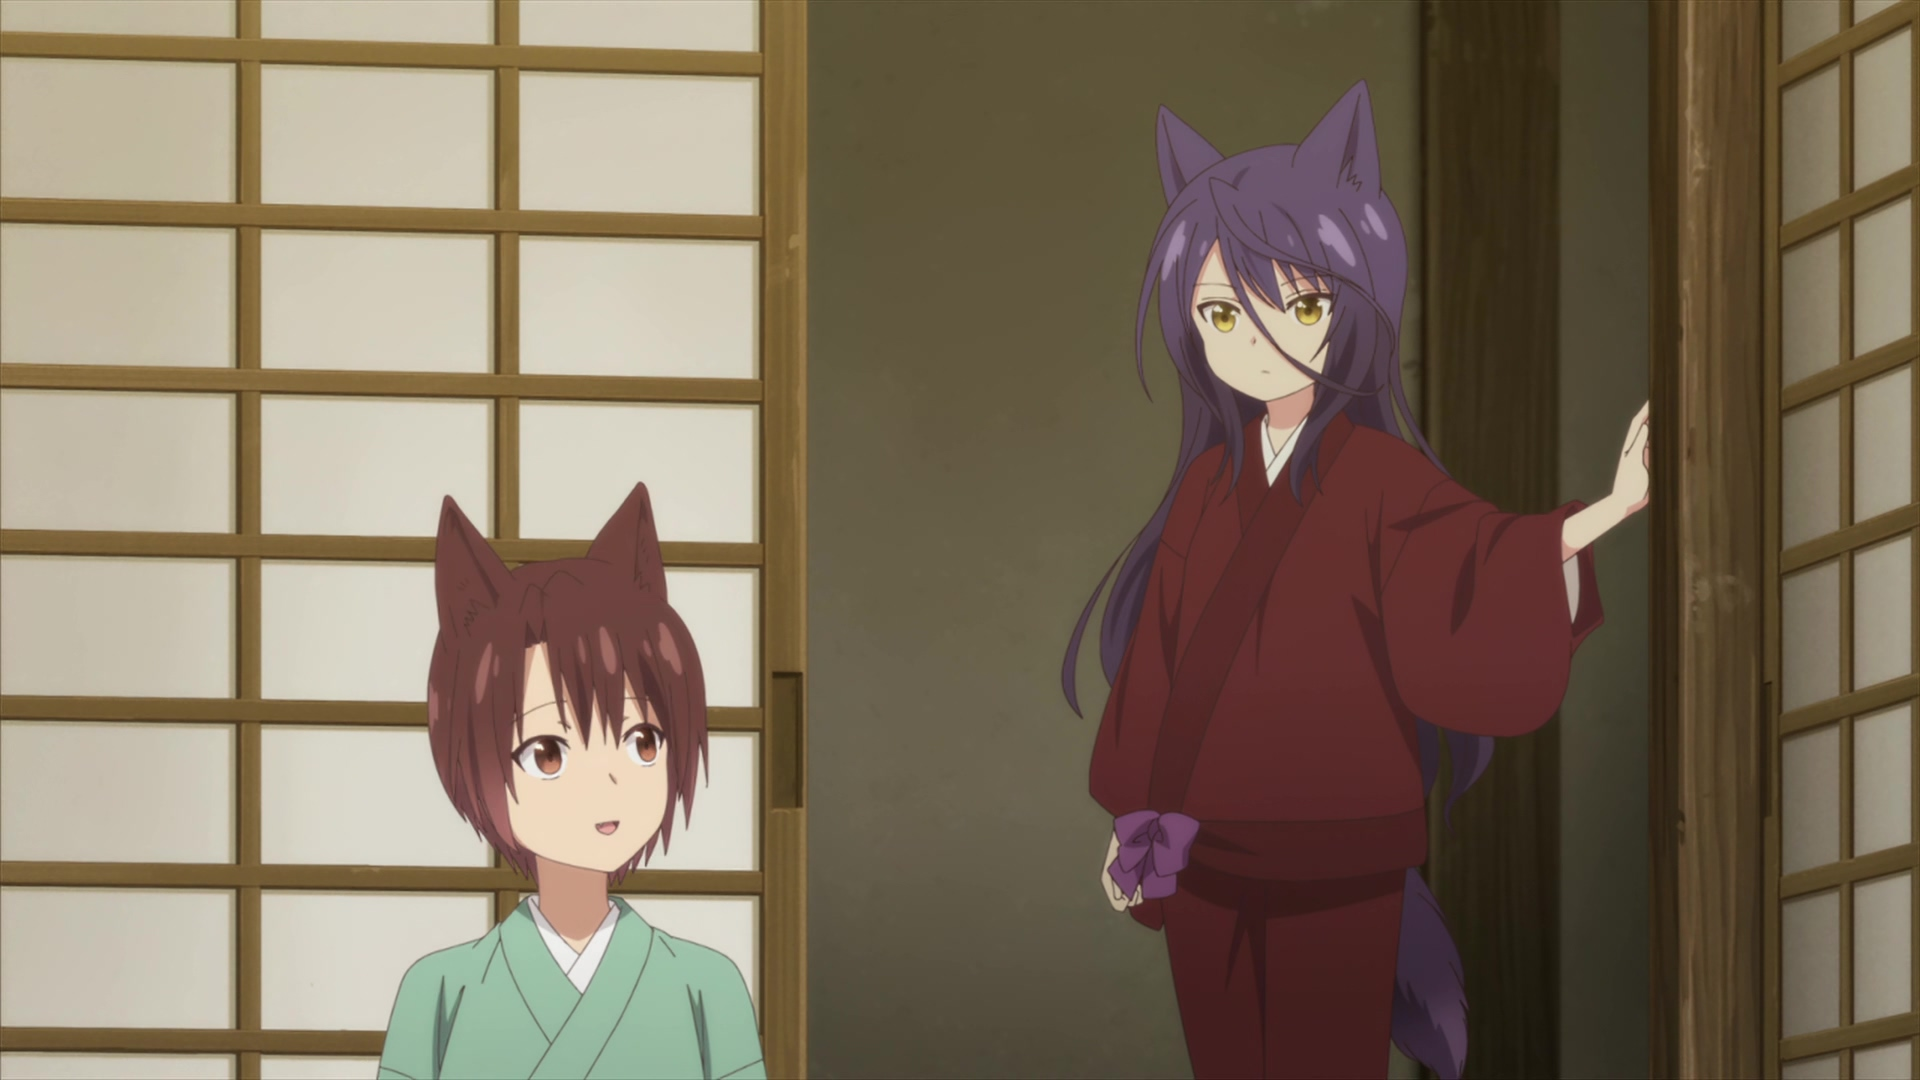枣: (378, 483, 766, 1080)
皋: (1059, 83, 1647, 1080)
